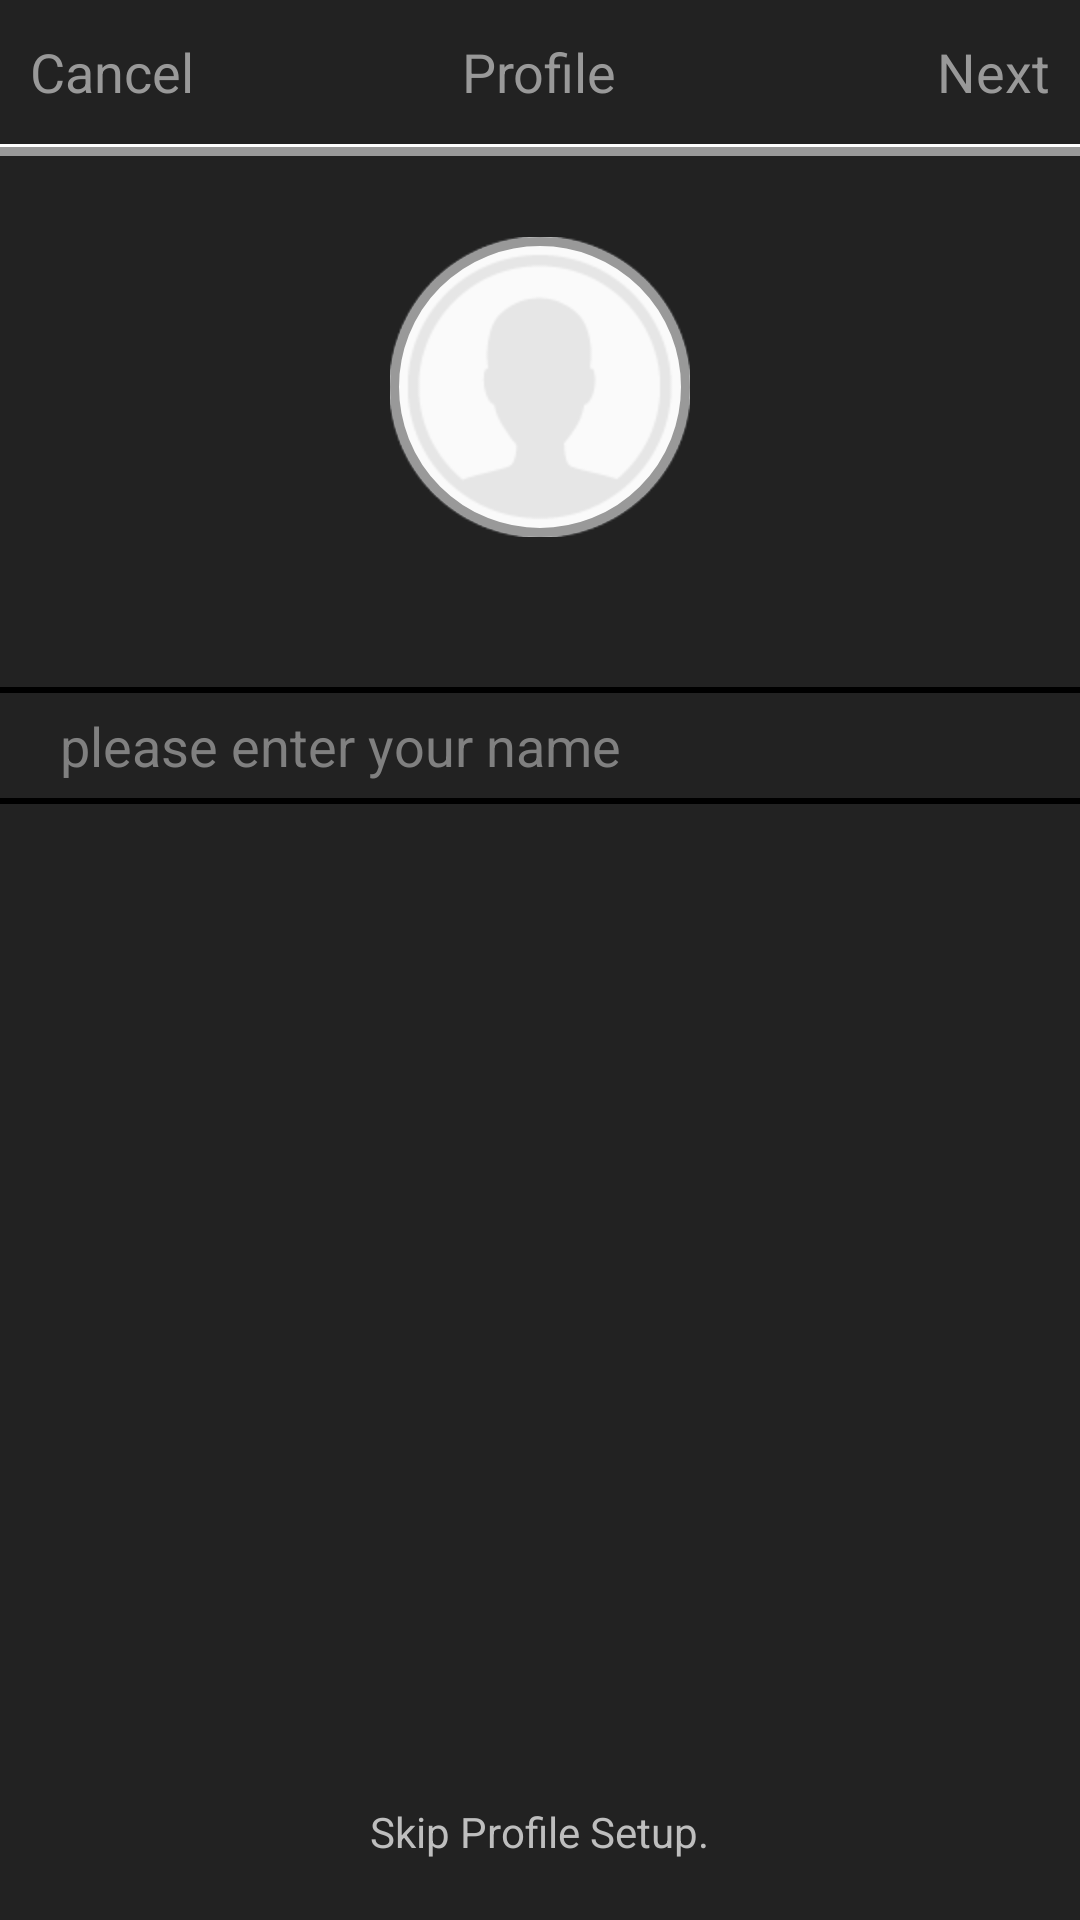

Icon click points for this 1080 x 1920 phone screenshot, format [x,y]:
unknow: [540,387]
